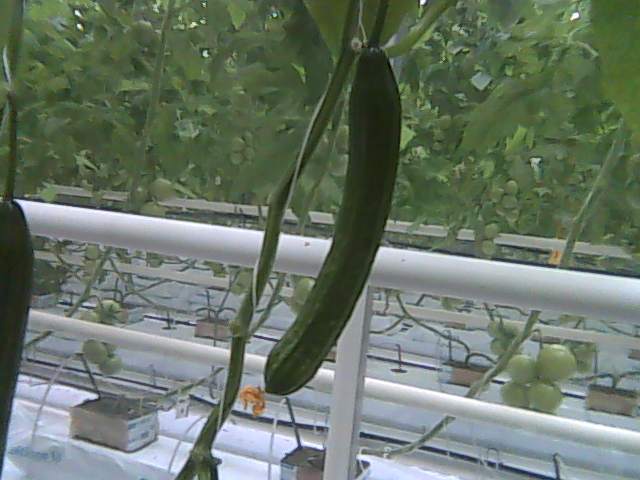concombre: (237, 26, 407, 421), (1, 195, 37, 480)
